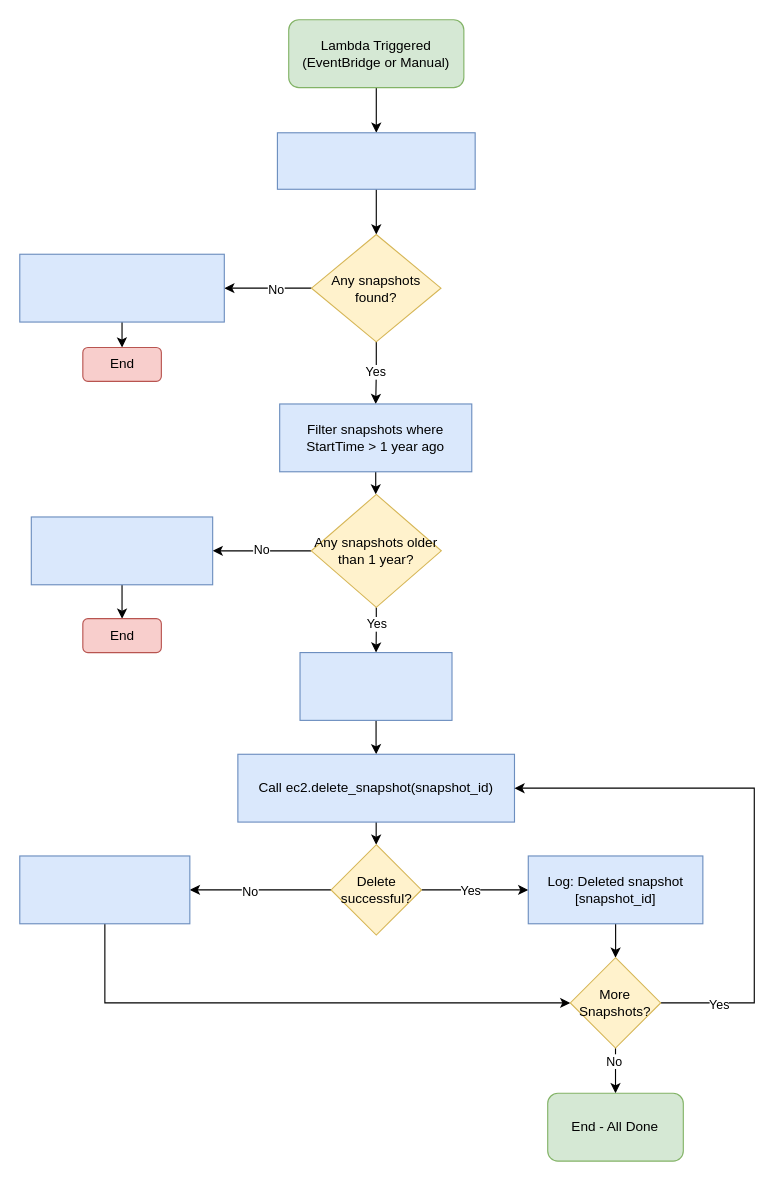
Some shapes in this 783 by 1181 pixel diagram are drawn without their labels. Each missing label, with the centre of its shape:
"Call ec2.describe_snapshots()" belongs at point 375,160.
"For each old snapshot:" belongs at point 375,685.
"Log Error: Failed to delete [snapshot_id]" belongs at point 104,889.
"Log: No old snapshots to clean up." belongs at point 121,550.
"Log: No snapshots found. Exiting." belongs at point 121,287.
